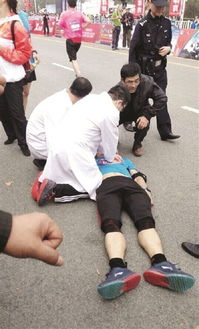10+: (1, 1, 198, 272)
down: (74, 137, 197, 298)
